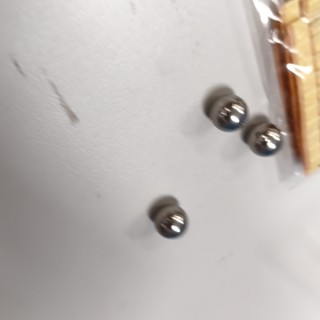ironball: (249, 107, 288, 174), (154, 195, 202, 244), (210, 81, 248, 141)
